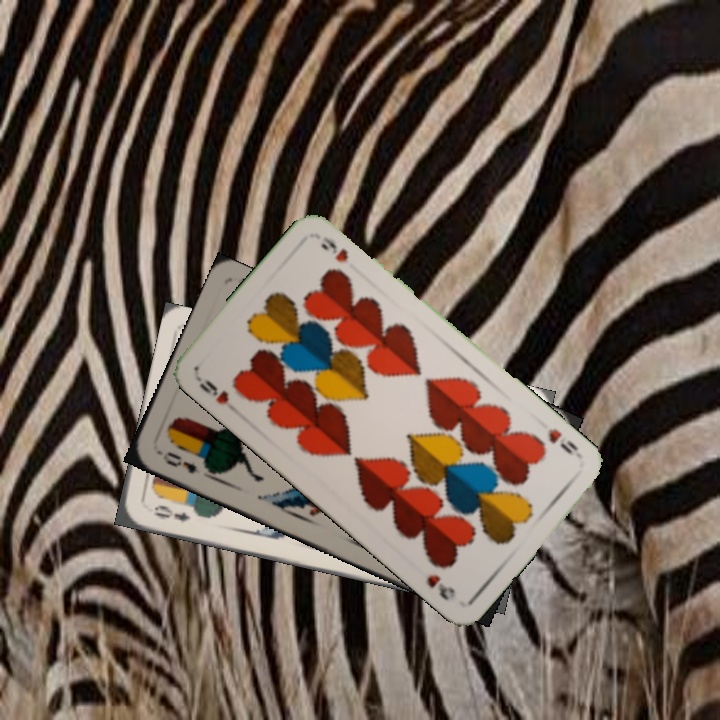EO: (154, 446, 212, 477), (149, 500, 193, 524)
H9: (192, 372, 232, 407), (544, 424, 581, 457)
